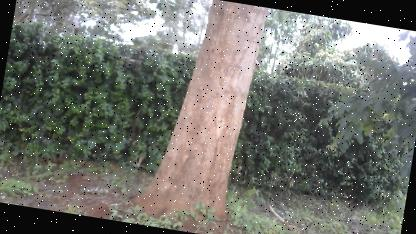tree: (126, 0, 275, 234)
